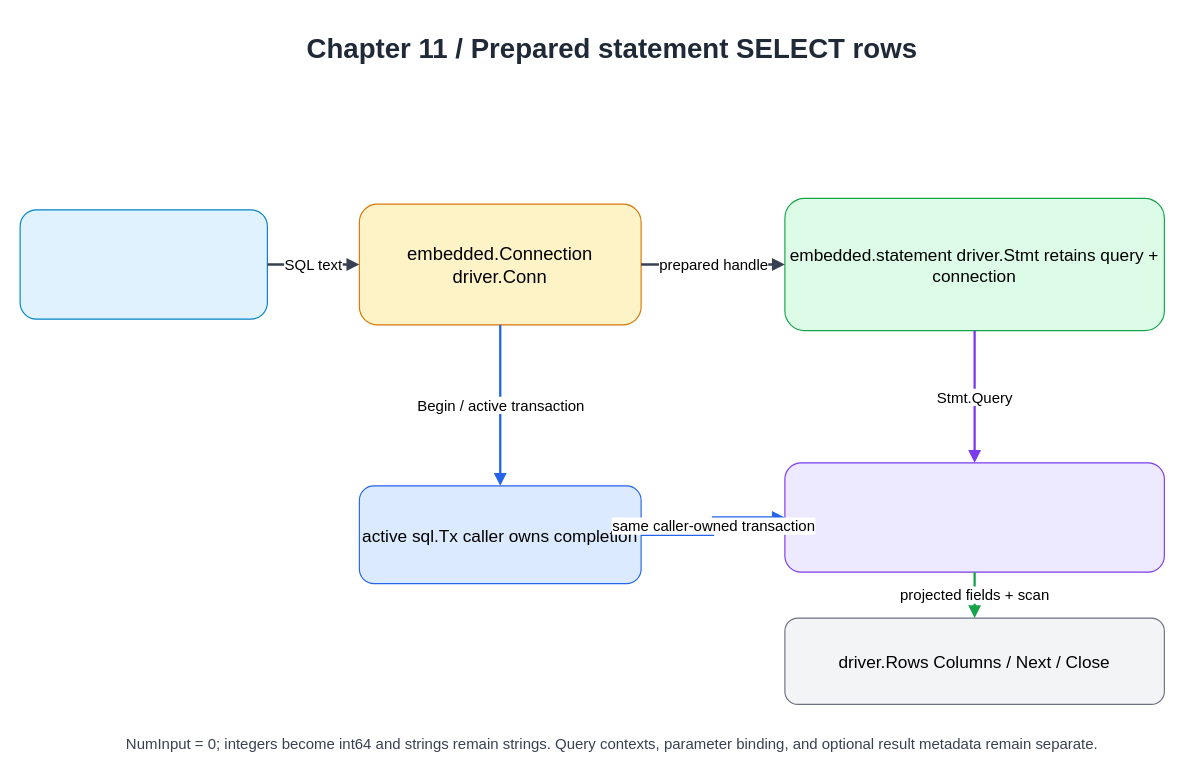
The diagram is 1185 pixels wide and 781 high, and some of its shapes have lost their labels. Each missing label, with the centre of its shape:
"Go application Prepare + Query" goes at [143,264].
"Managers.CreateQueryPlan Plan.Open() → query.Scan" goes at [974,517].
